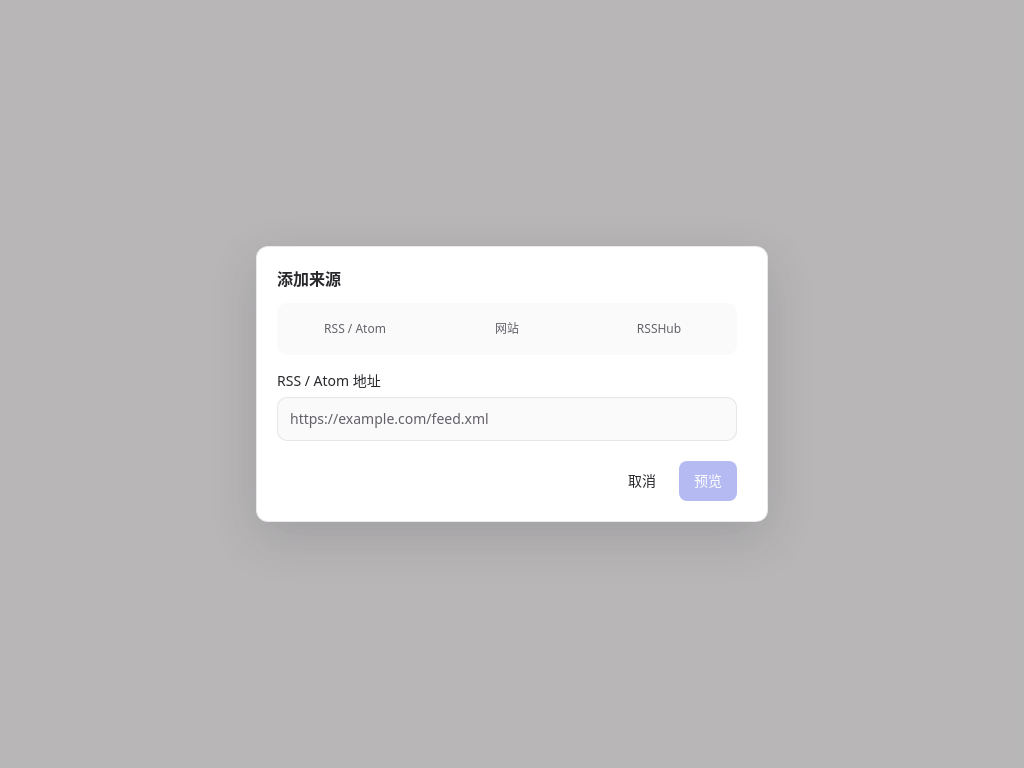
AddSourceDialog — 网站发现 › 发现成功：候选列表（声明来源 + 空标题回退 URL）+ 第一个默认选中
Click the tab "网站". click: coordinates (507, 329)
box: [433,307,581,351]
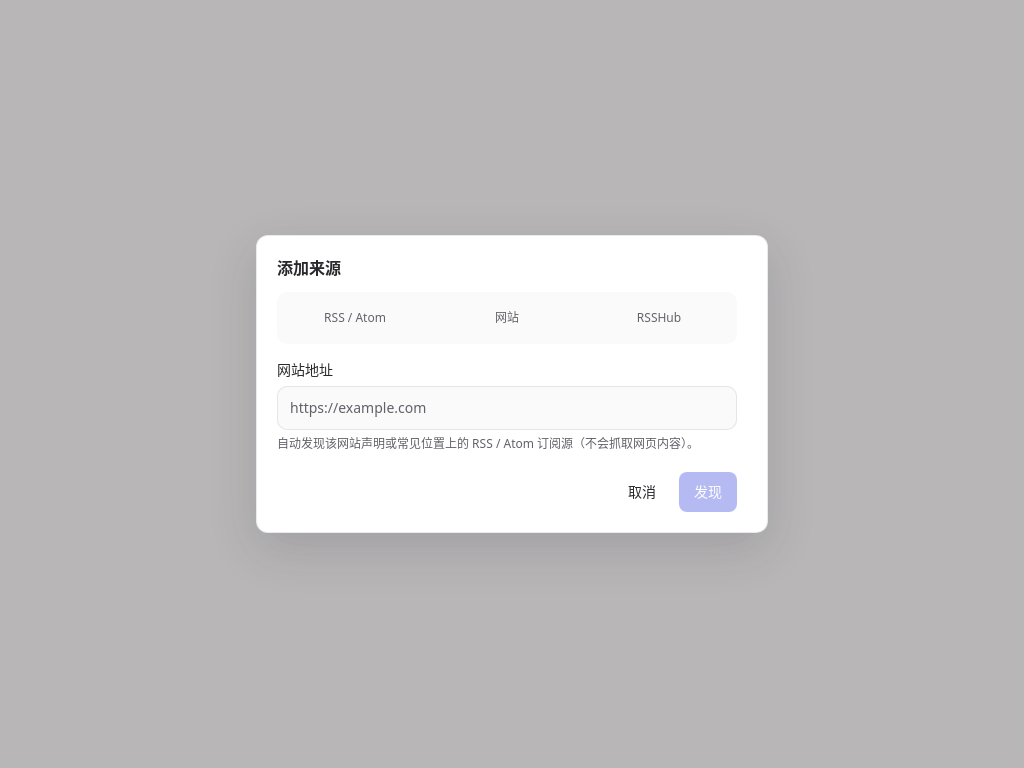
Type "https://blog.example.com/" into the field labelled "网站地址". click: coordinates (507, 408)
box: [277,386,737,430]
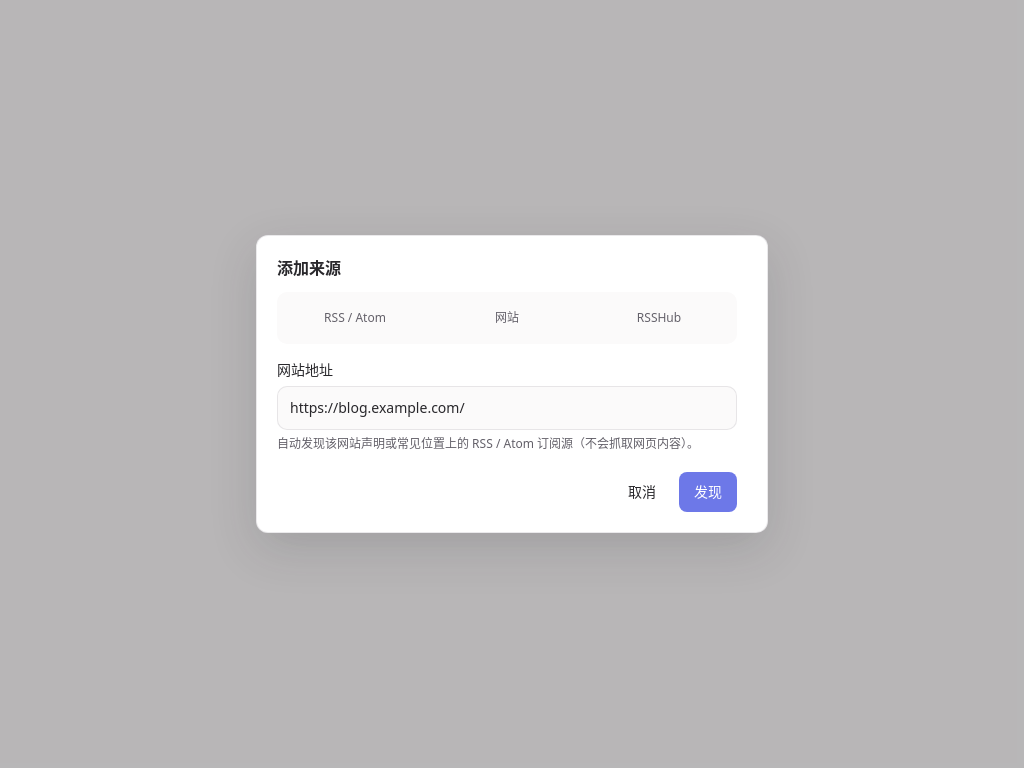
Click the button "发现". click: coordinates (708, 492)
box: [679,472,737,512]
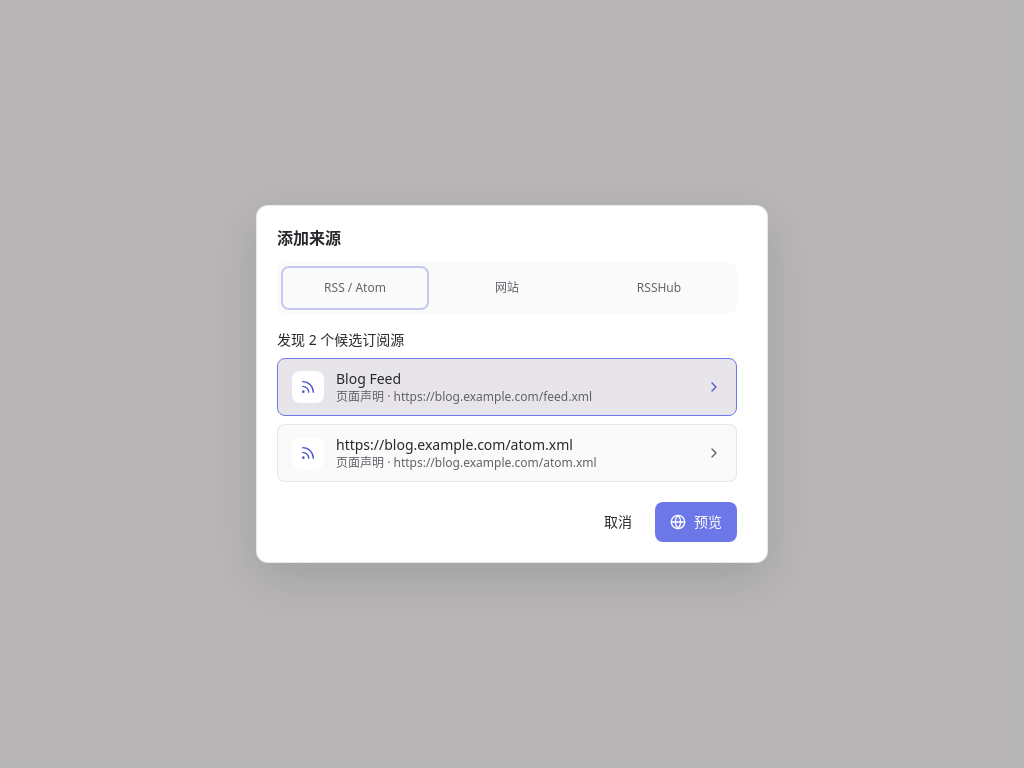
Expected: the text "Blog Feed" is shown, [336,369,401,388]
Expected: the text "https://blog.example.com/atom.xml" is shown, [336,435,573,454]
Expected: the radio button labelled "Blog Feed 页面声明 · https://blog.example.com/feed.xml" is checked, [277,358,737,416]
